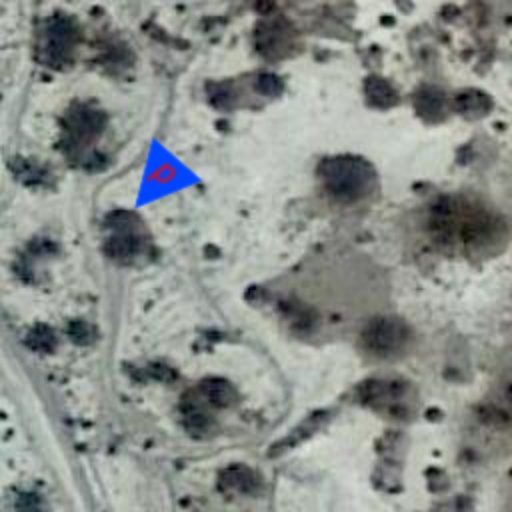triangle: (108, 136, 204, 232)
